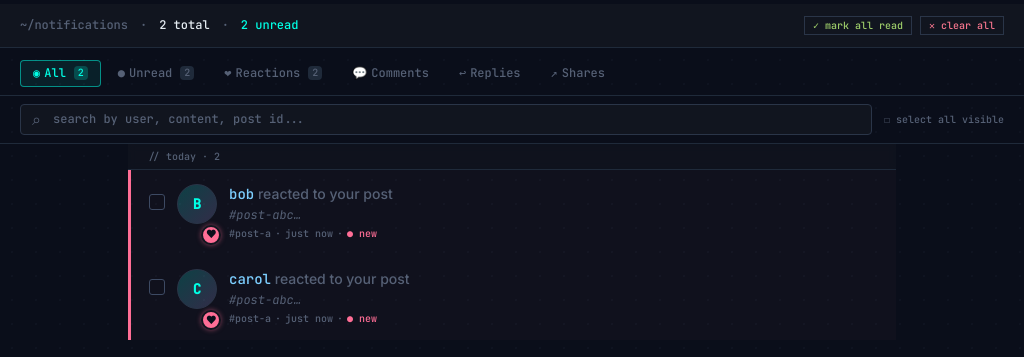
it: NotificationsPage (T-352, FR-14.7-.13) › T-352: search filter hides non-matching rows
The width and height of the screenshot is (1024, 357).
Expected: the number of elements with test id "notif-row-page" is 2, [128,170,896,255]; [128,255,896,340]
Type "carol" into the field with test id "notifications-search". click: [446, 119]
box: [20,104,872,135]
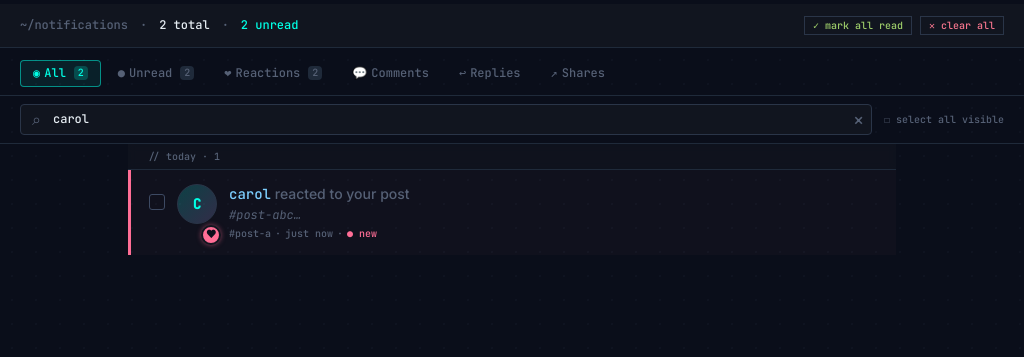
Result: the number of elements with test id "notif-row-page" is 1 at [128,170,896,255]
